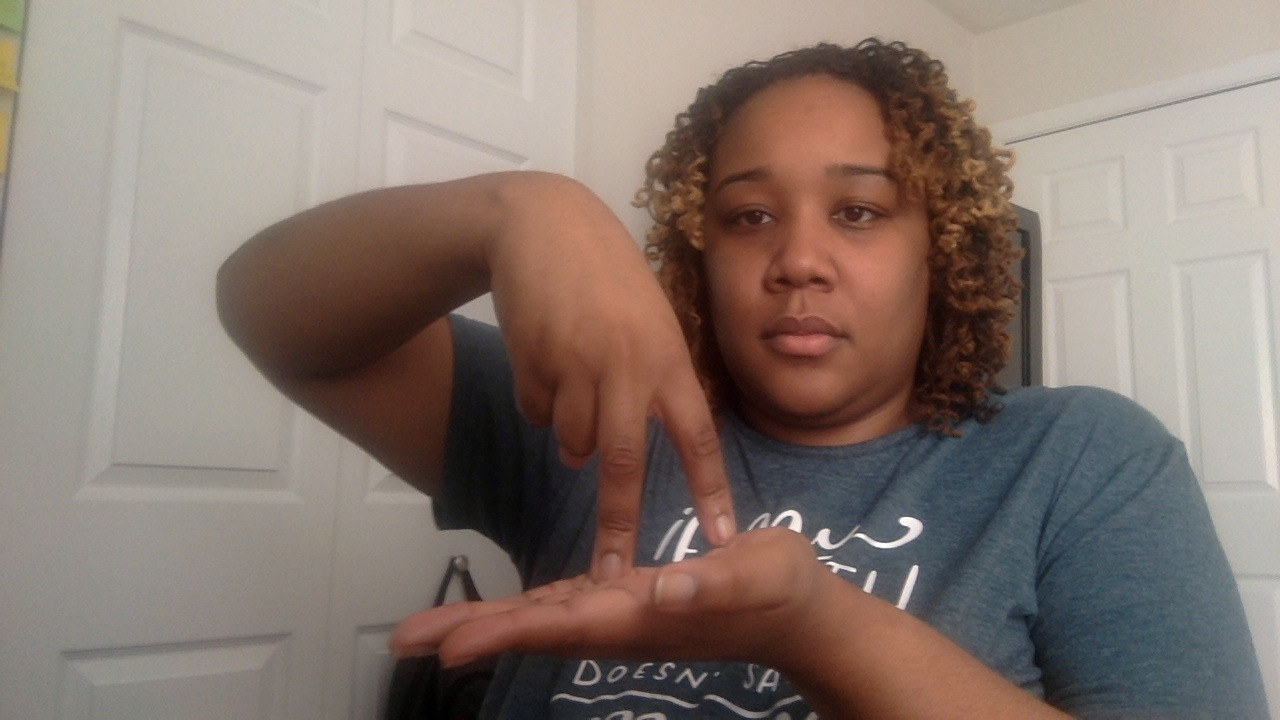fork: (375, 173, 819, 670)
